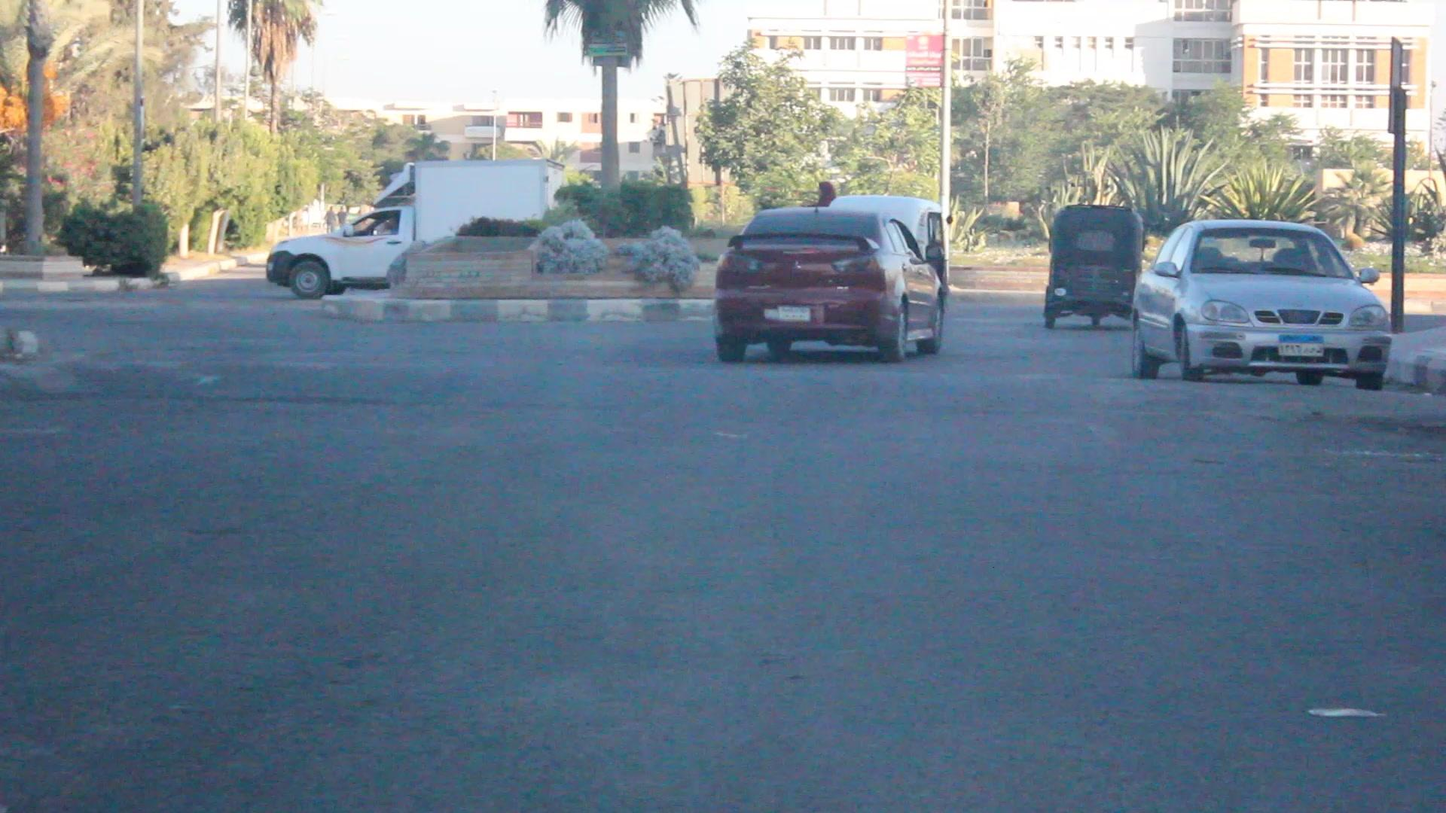Bump: (9, 352, 1431, 425)
